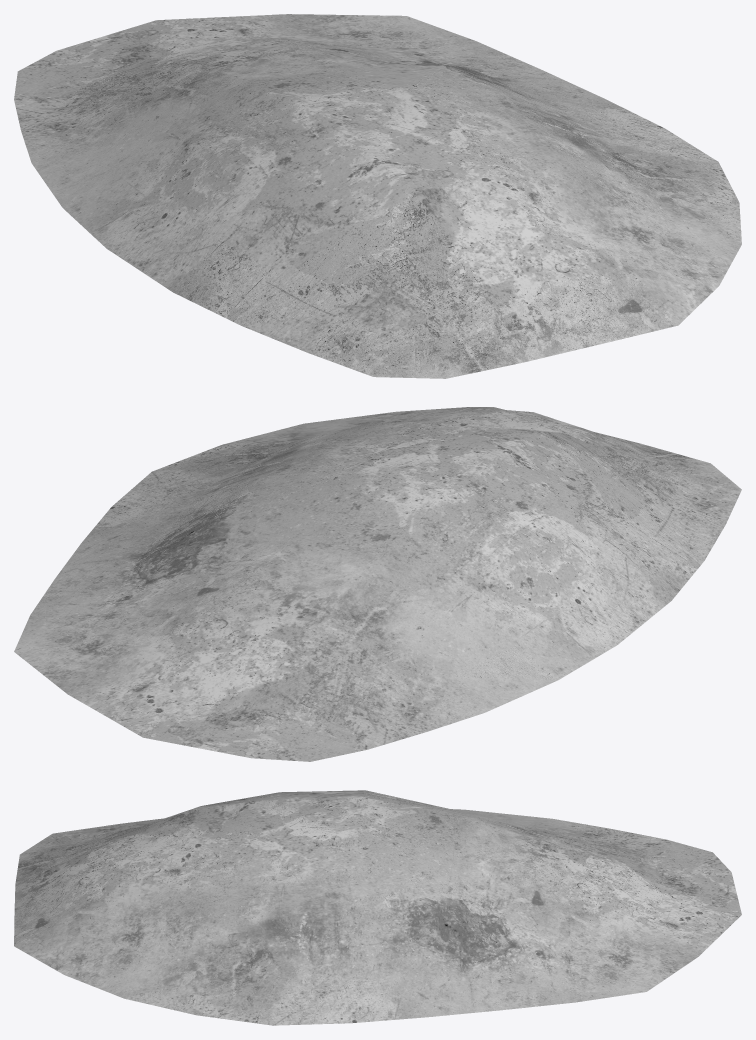
Rendered from SM_StrawPile_02a.fbx.
The picture shows the model from 3 angles, top to bottom: view 1: azimuth 30°, elevation 25°; view 2: azimuth 150°, elevation 25°; view 3: azimuth 270°, elevation 25°; orthographic projection. The views are drawn at different scales.
Visible parts, largest first — view 1: SM_StrawPile_02a_LOD0; view 2: SM_StrawPile_02a_LOD0; view 3: SM_StrawPile_02a_LOD0.
Part boxes in pixels (bbox=[...]): SM_StrawPile_02a_LOD0: bbox=[14, 14, 741, 378]; SM_StrawPile_02a_LOD0: bbox=[14, 407, 741, 761]; SM_StrawPile_02a_LOD0: bbox=[14, 790, 741, 1025].
Size of the model in its own units: 177 by 249 by 31.78.
